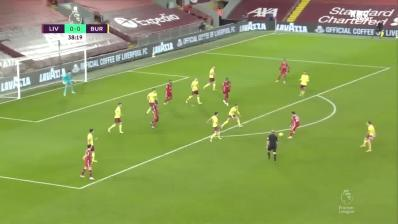football: (277, 131, 286, 138)
player: (79, 144, 96, 184), (220, 104, 244, 130), (108, 102, 126, 136), (359, 120, 376, 153), (185, 76, 203, 106), (206, 112, 222, 144), (203, 65, 219, 93), (148, 99, 162, 130), (287, 110, 301, 140), (144, 88, 159, 116), (62, 69, 76, 98), (87, 127, 98, 163), (276, 58, 290, 86), (297, 70, 310, 100), (162, 80, 176, 106), (222, 77, 233, 107)
referee: (267, 129, 278, 165)
